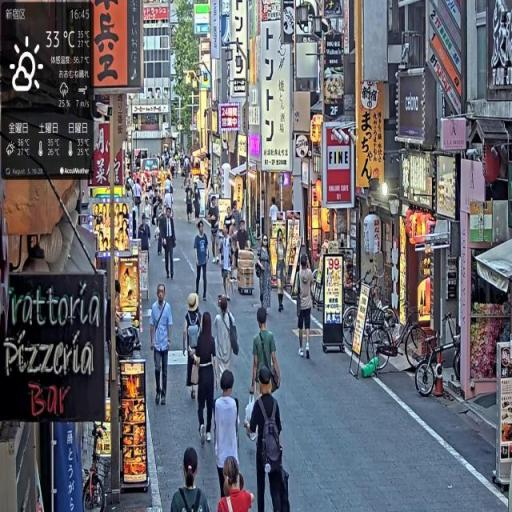person: (245, 366, 290, 512), (212, 371, 242, 502), (191, 314, 220, 449), (252, 307, 283, 404), (170, 447, 215, 512), (295, 250, 320, 365), (151, 283, 174, 407), (214, 297, 240, 400), (217, 454, 254, 512), (184, 293, 205, 394), (194, 218, 211, 307), (219, 223, 236, 302), (161, 205, 178, 284), (209, 200, 223, 265)
